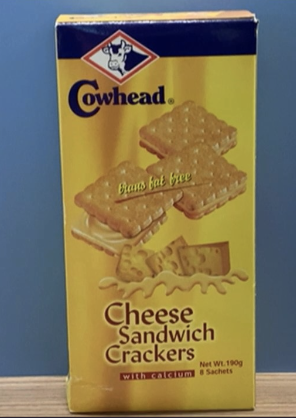crackers_100g-199g: (78, 39, 255, 390)
